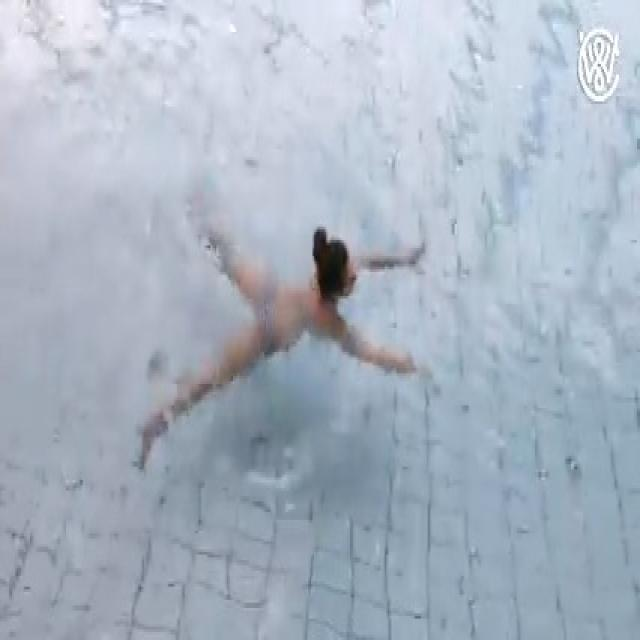Swimming: (144, 206, 424, 457)
